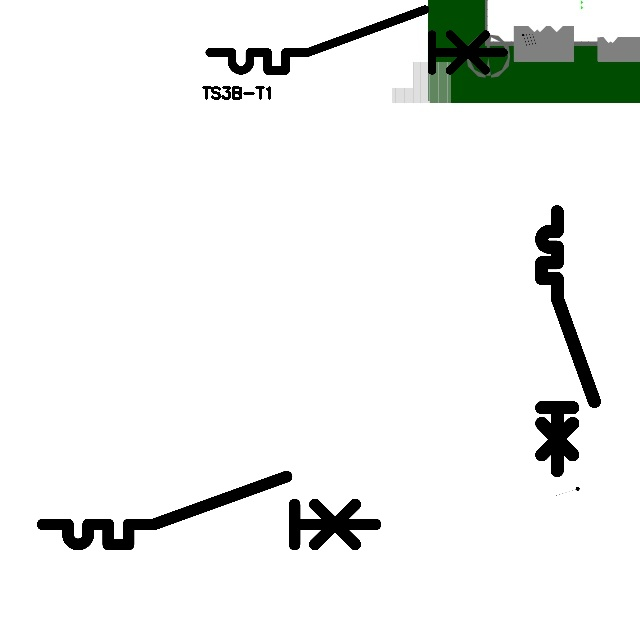interruptor_termomagnetico: (34, 468, 384, 553), (202, 2, 511, 78), (535, 205, 601, 477)
